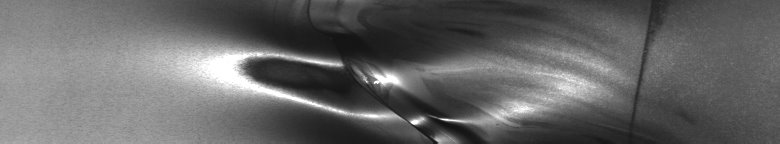ke: (240, 44, 548, 136)
